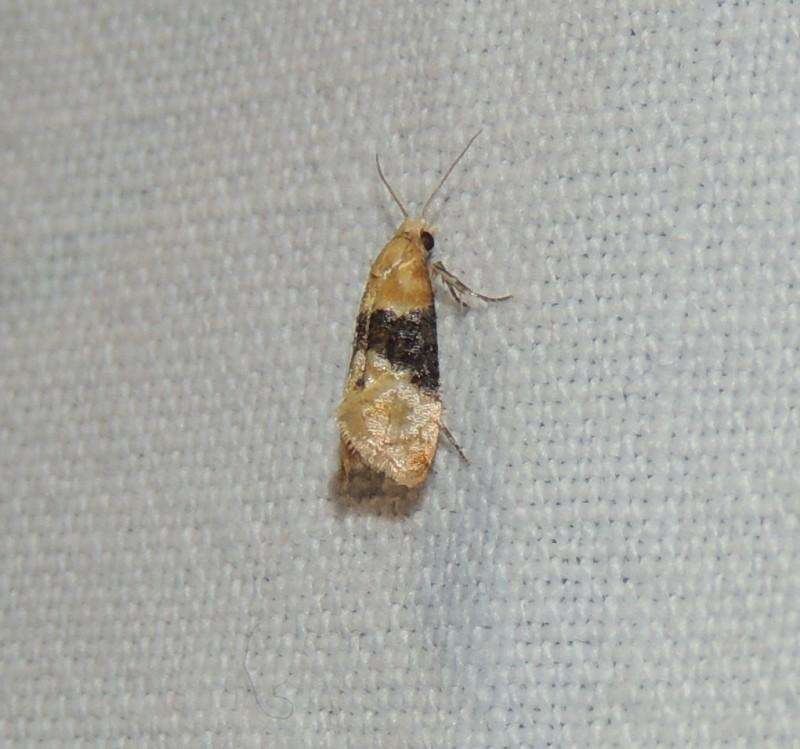Eupoecilia Ambiguella: (331, 126, 514, 501)
